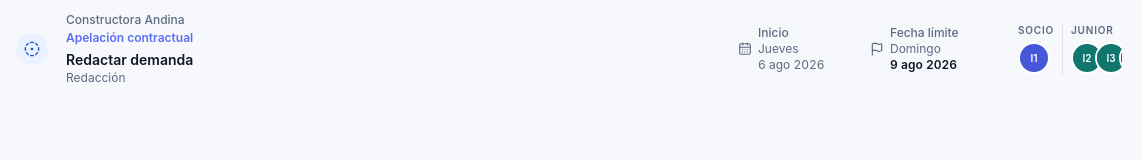
Test: MyWorkTaskRow › shows task assignees as accessible avatars with overflow
The image size is (1142, 160).
Expected: the picture named "Integrante 1" reads "I1", [1030, 52, 1038, 64]
Focus the link named "I1, Integrante 1, Socio, Encargado" at (1034, 58), box [1018, 40, 1050, 76]
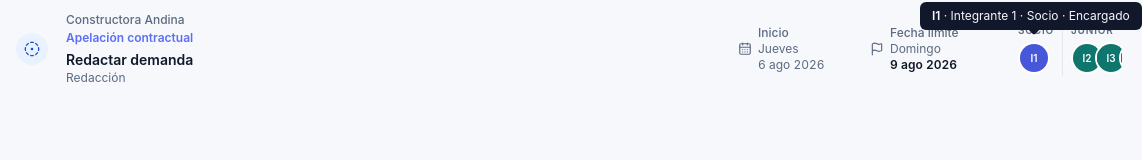
Expected: the tooltip reads "I1 · Integrante 1 · Socio · Encargado", [920, 2, 1141, 30]
